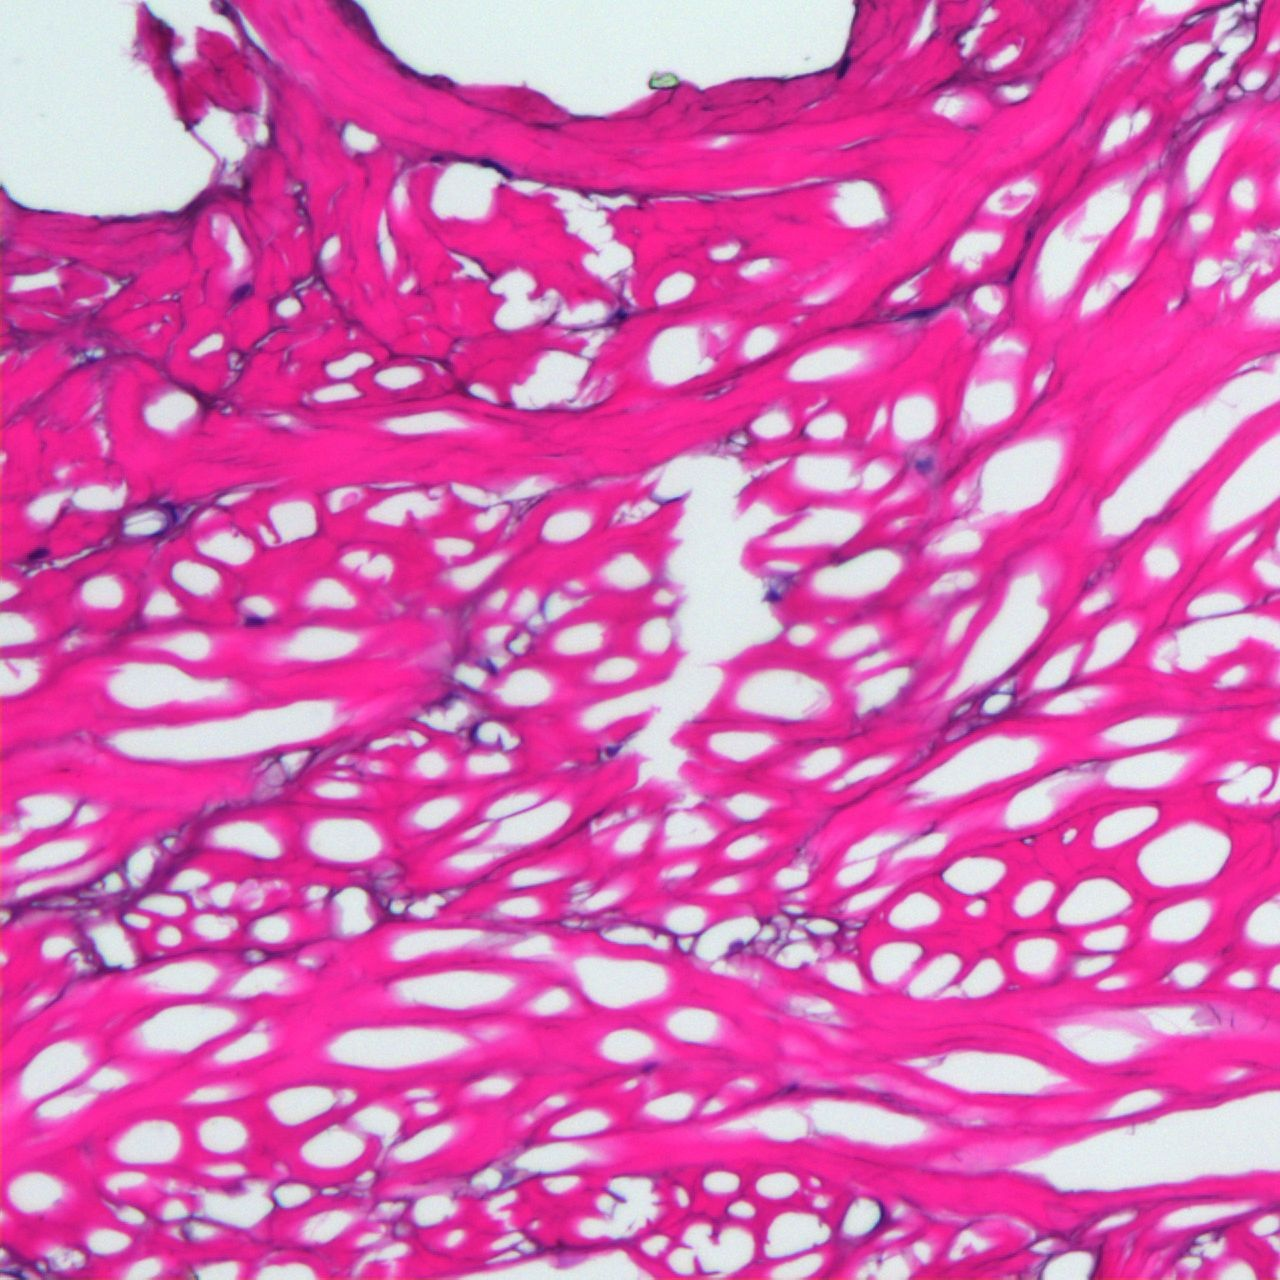dust: (648, 74, 678, 89)
nucleus-HE: (229, 279, 254, 304), (25, 544, 49, 563), (605, 745, 621, 756), (246, 617, 264, 626), (642, 1061, 656, 1073), (614, 308, 626, 319), (430, 156, 443, 161)
